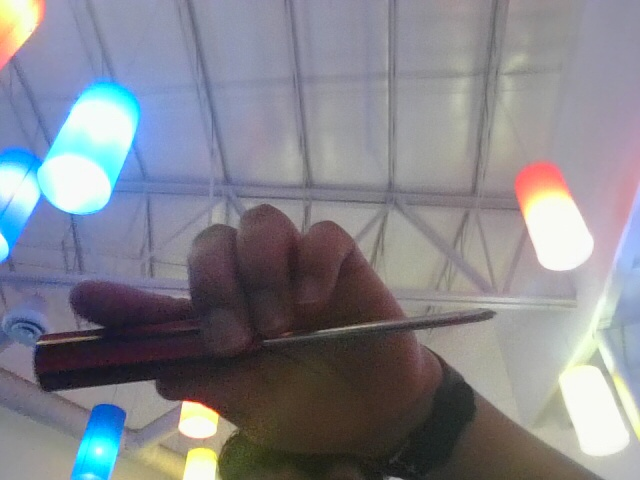destornillador: (30, 233, 502, 441), (24, 270, 501, 413)
